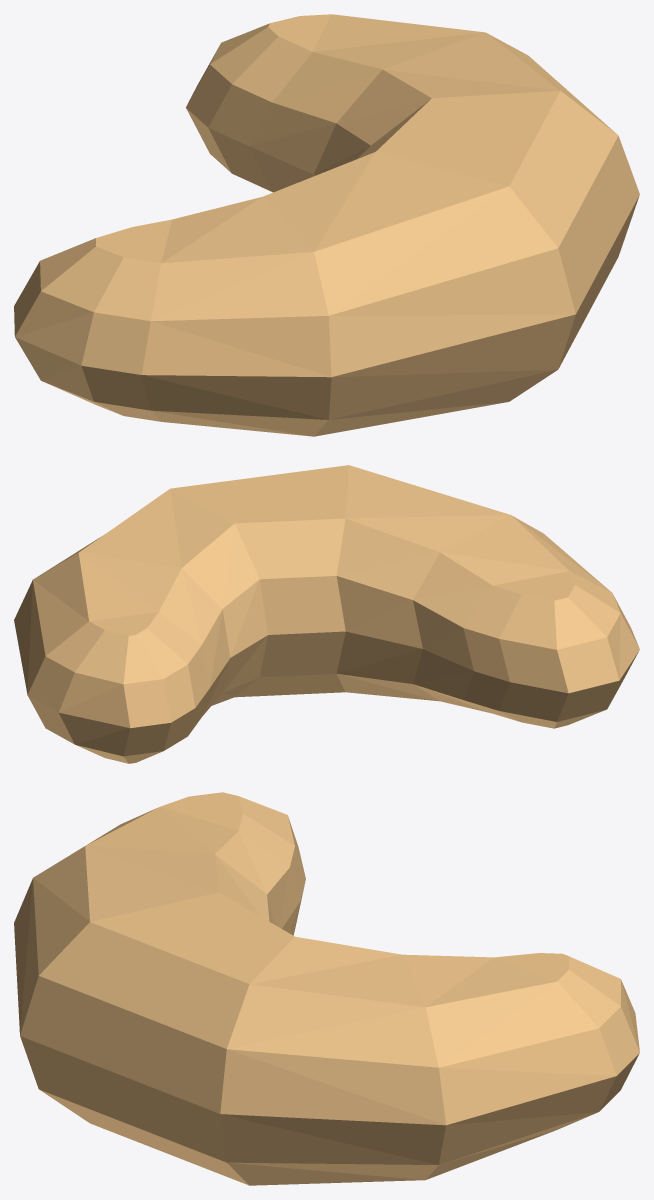
The model's file is cashew.glb.
The picture shows the model from 3 angles, top to bottom: view 1: azimuth 30°, elevation 25°; view 2: azimuth 150°, elevation 25°; view 3: azimuth 270°, elevation 25°; orthographic projection. The views are drawn at different scales.
Visible parts, largest first — view 1: Cashew; view 2: Cashew; view 3: Cashew.
Part boxes in pixels (x1,y1,x2,y2): Cashew: (14, 14, 639, 436); Cashew: (14, 465, 639, 763); Cashew: (14, 792, 639, 1185).
Bounding box in the file's own units: 87.9 × 28.29 × 79.65.
